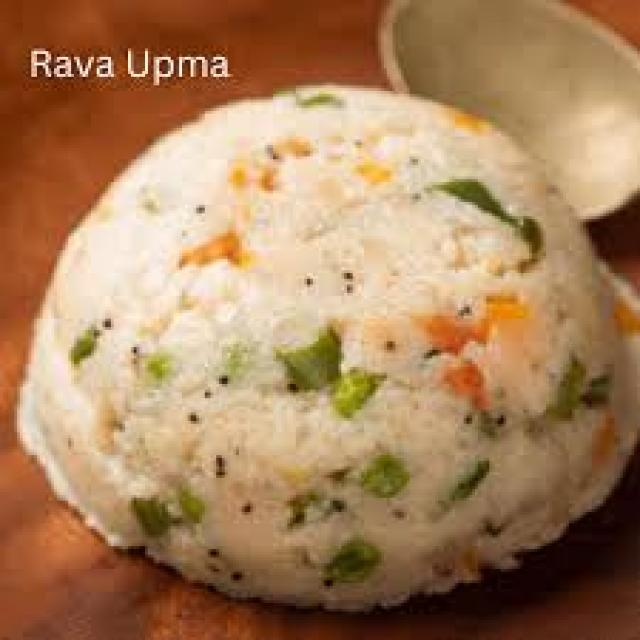UPMA: (20, 85, 637, 589)
